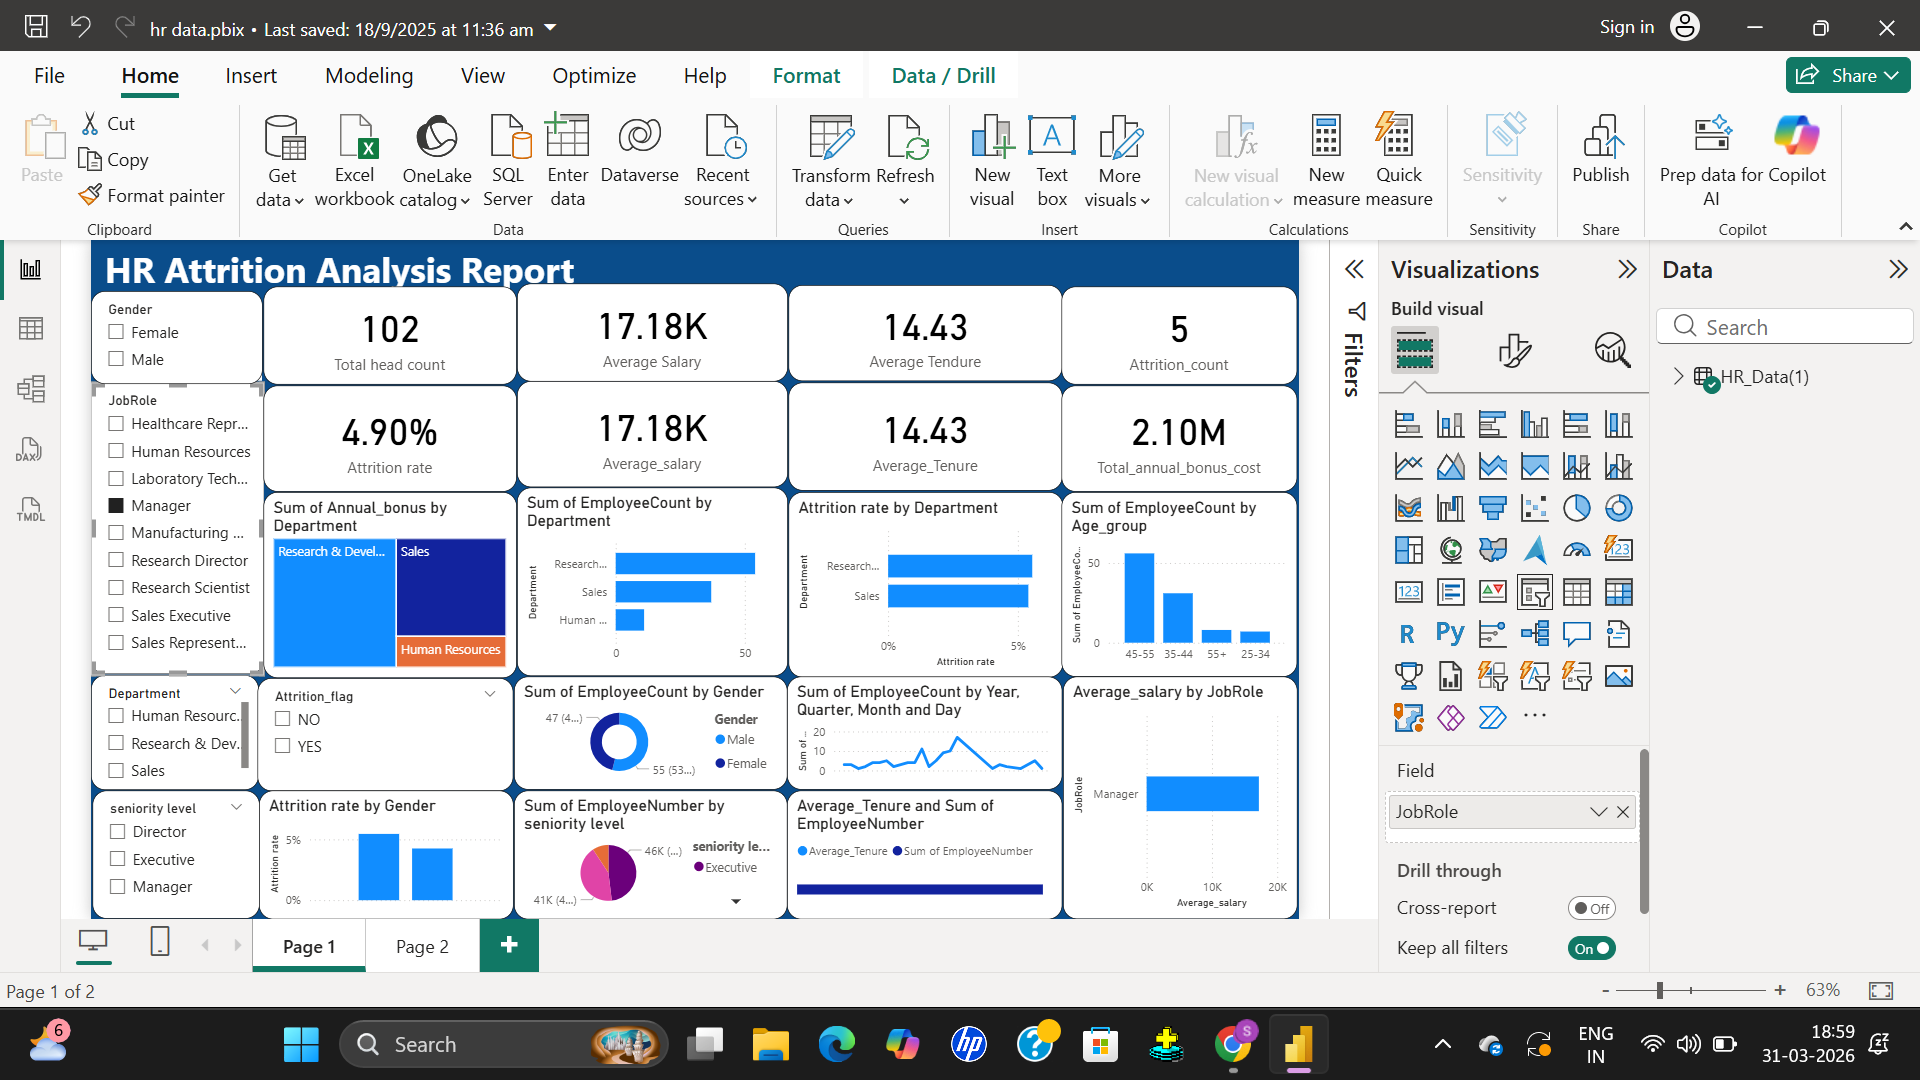

This screenshot's page, from the dashboard's own definition file:
{"tool":"powerbi","page":{"name":"Page 1","canvas":[1280,720],"ordinal":0},"visuals":[{"type":"textbox","box":[9.4,0,542.4,103.9],"z":0},{"type":"slicer","fields":{"Values":["HR_Data(1).Department"]},"box":[0,461.1,177.8,122.2],"z":1000},{"type":"slicer","fields":{"Values":["HR_Data(1).JobRole"]},"box":[0,151.9,183.3,309.3],"z":2000},{"type":"slicer","fields":{"Values":["HR_Data(1).Gender"]},"box":[0,53.3,181.7,98.3],"z":3000},{"type":"slicer","fields":{"Values":["HR_Data(1).seniority level"]},"box":[1.9,583.9,177.6,136.1],"z":4000},{"type":"card","fields":{"Values":["CountNonNull(HR_Data(1).EmployeeNumber)"]},"box":[183.3,50,268.5,103.7],"z":5000},{"type":"card","fields":{"Values":["Avg(HR_Data(1).MonthlyIncome)"]},"box":[451.9,46.3,287,103.7],"z":6000},{"type":"card","fields":{"Values":["Avg(HR_Data(1).YearsAtCompany)"]},"box":[738.9,48.1,290.7,101.9],"z":7000},{"type":"card","fields":{"Values":["HR_Data(1).Attrition_count"]},"box":[1029.6,50,250,103.7],"z":8000},{"type":"card","fields":{"Values":["HR_Data(1).Attrition rate"]},"box":[183.3,153.7,268.5,113],"z":9000},{"type":"card","fields":{"Values":["HR_Data(1).Average_salary"]},"box":[451.9,150,287,113],"z":11000},{"type":"card","fields":{"Values":["HR_Data(1).Average_Tenure"]},"box":[738.9,151.9,290.7,114.8],"z":12000},{"type":"card","fields":{"Values":["HR_Data(1).Total_annual_bonus_cost"]},"box":[1029.6,153.7,250,113],"z":13000},{"type":"slicer","fields":{"Values":["HR_Data(1).Attrition_flag"]},"box":[177.1,464.3,271.4,120],"z":14000},{"type":"barChart","fields":{"Y":["Sum(HR_Data(1).EmployeeCount)"],"Category":["HR_Data(1).Department"]},"box":[451.7,262.7,287.2,200.3],"z":15000},{"type":"clusteredBarChart","fields":{"Category":["HR_Data(1).Department"],"Y":["HR_Data(1).Attrition rate"]},"box":[738.9,266.5,291,196.5],"z":16000},{"type":"columnChart","fields":{"Y":["Sum(HR_Data(1).EmployeeCount)"],"Category":["HR_Data(1).Age_group"]},"box":[1028.8,267.3,250,196.2],"z":17000},{"type":"donutChart","fields":{"Category":["HR_Data(1).Gender"],"Y":["Sum(HR_Data(1).EmployeeCount)"]},"box":[448.3,463.3,290,120],"z":18000},{"type":"lineChart","fields":{"Y":["Sum(HR_Data(1).EmployeeCount)"],"Category":["HR_Data(1).HIREDATE.Variation.Date Hierarchy.Year","HR_Data(1).HIREDATE.Variation.Date Hierarchy.Quarter","HR_Data(1).HIREDATE.Variation.Date Hierarchy.Month","HR_Data(1).HIREDATE.Variation.Date Hierarchy.Day"]},"box":[738.3,463.3,291.7,120],"z":19000},{"type":"barChart","fields":{"Y":["HR_Data(1).Average_salary"],"Category":["HR_Data(1).JobRole"]},"box":[1030,462.9,248.6,257.1],"z":20000},{"type":"columnChart","fields":{"Y":["HR_Data(1).Attrition rate"],"Category":["HR_Data(1).Gender"]},"box":[178.3,583.3,270,136.7],"z":21000},{"type":"pieChart","fields":{"Category":["HR_Data(1).seniority level"],"Y":["Sum(HR_Data(1).EmployeeNumber)"]},"box":[448.3,583.3,290,136.7],"z":22000},{"type":"barChart","fields":{"Y":["HR_Data(1).Average_Tenure","Sum(HR_Data(1).EmployeeNumber)"]},"box":[738.3,583.3,291.7,136.7],"z":23000},{"type":"treemap","fields":{"Group":["HR_Data(1).Department"],"Values":["Sum(HR_Data(1).Annual_bonus)"]},"box":[182.9,267.1,268.6,197.1],"z":24000}]}

Visuals, with their boxes on the page's 1280x720 design canvas (x1, y1, x2, y2). These are canvas units, not pixel positions in the 1920x1080 screenshot, which may show the page scaled, cropped or inside an application window:
textbox: <bbox>9, 0, 552, 104</bbox>
slicer - HR_Data(1).Department: <bbox>0, 461, 178, 583</bbox>
slicer - HR_Data(1).JobRole: <bbox>0, 152, 183, 461</bbox>
slicer - HR_Data(1).Gender: <bbox>0, 53, 182, 152</bbox>
slicer - HR_Data(1).seniority level: <bbox>2, 584, 180, 720</bbox>
card - CountNonNull(HR_Data(1).EmployeeNumber): <bbox>183, 50, 452, 154</bbox>
card - Avg(HR_Data(1).MonthlyIncome): <bbox>452, 46, 739, 150</bbox>
card - Avg(HR_Data(1).YearsAtCompany): <bbox>739, 48, 1030, 150</bbox>
card - HR_Data(1).Attrition_count: <bbox>1030, 50, 1280, 154</bbox>
card - HR_Data(1).Attrition rate: <bbox>183, 154, 452, 267</bbox>
card - HR_Data(1).Average_salary: <bbox>452, 150, 739, 263</bbox>
card - HR_Data(1).Average_Tenure: <bbox>739, 152, 1030, 267</bbox>
card - HR_Data(1).Total_annual_bonus_cost: <bbox>1030, 154, 1280, 267</bbox>
slicer - HR_Data(1).Attrition_flag: <bbox>177, 464, 448, 584</bbox>
barChart - Sum(HR_Data(1).EmployeeCount) x HR_Data(1).Department: <bbox>452, 263, 739, 463</bbox>
clusteredBarChart - HR_Data(1).Department x HR_Data(1).Attrition rate: <bbox>739, 266, 1030, 463</bbox>
columnChart - Sum(HR_Data(1).EmployeeCount) x HR_Data(1).Age_group: <bbox>1029, 267, 1279, 464</bbox>
donutChart - HR_Data(1).Gender x Sum(HR_Data(1).EmployeeCount): <bbox>448, 463, 738, 583</bbox>
lineChart - Sum(HR_Data(1).EmployeeCount) x HR_Data(1).HIREDATE.Variation.Date Hierarchy.Year: <bbox>738, 463, 1030, 583</bbox>
barChart - HR_Data(1).Average_salary x HR_Data(1).JobRole: <bbox>1030, 463, 1279, 720</bbox>
columnChart - HR_Data(1).Attrition rate x HR_Data(1).Gender: <bbox>178, 583, 448, 720</bbox>
pieChart - HR_Data(1).seniority level x Sum(HR_Data(1).EmployeeNumber): <bbox>448, 583, 738, 720</bbox>
barChart - HR_Data(1).Average_Tenure x Sum(HR_Data(1).EmployeeNumber): <bbox>738, 583, 1030, 720</bbox>
treemap - HR_Data(1).Department x Sum(HR_Data(1).Annual_bonus): <bbox>183, 267, 452, 464</bbox>
